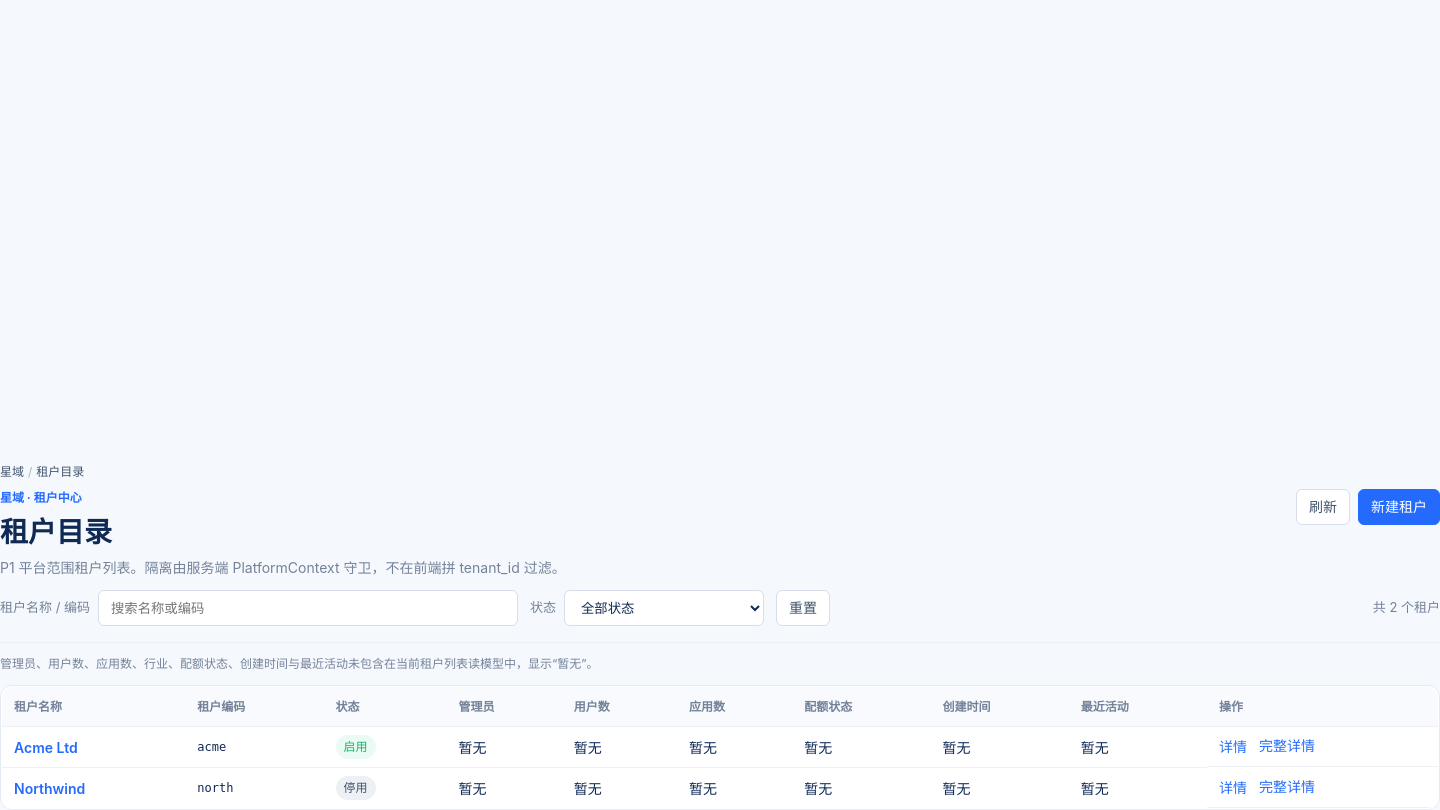
Test: P1 tenant directory V4 › uses NxEmpty for both an empty API response and a filter with no matches
(page scrolled)
Type "missing" into the search field with test id "tenant-search" at (308, 608), box x1=98 y1=590 x2=518 y2=626
(page scrolled)
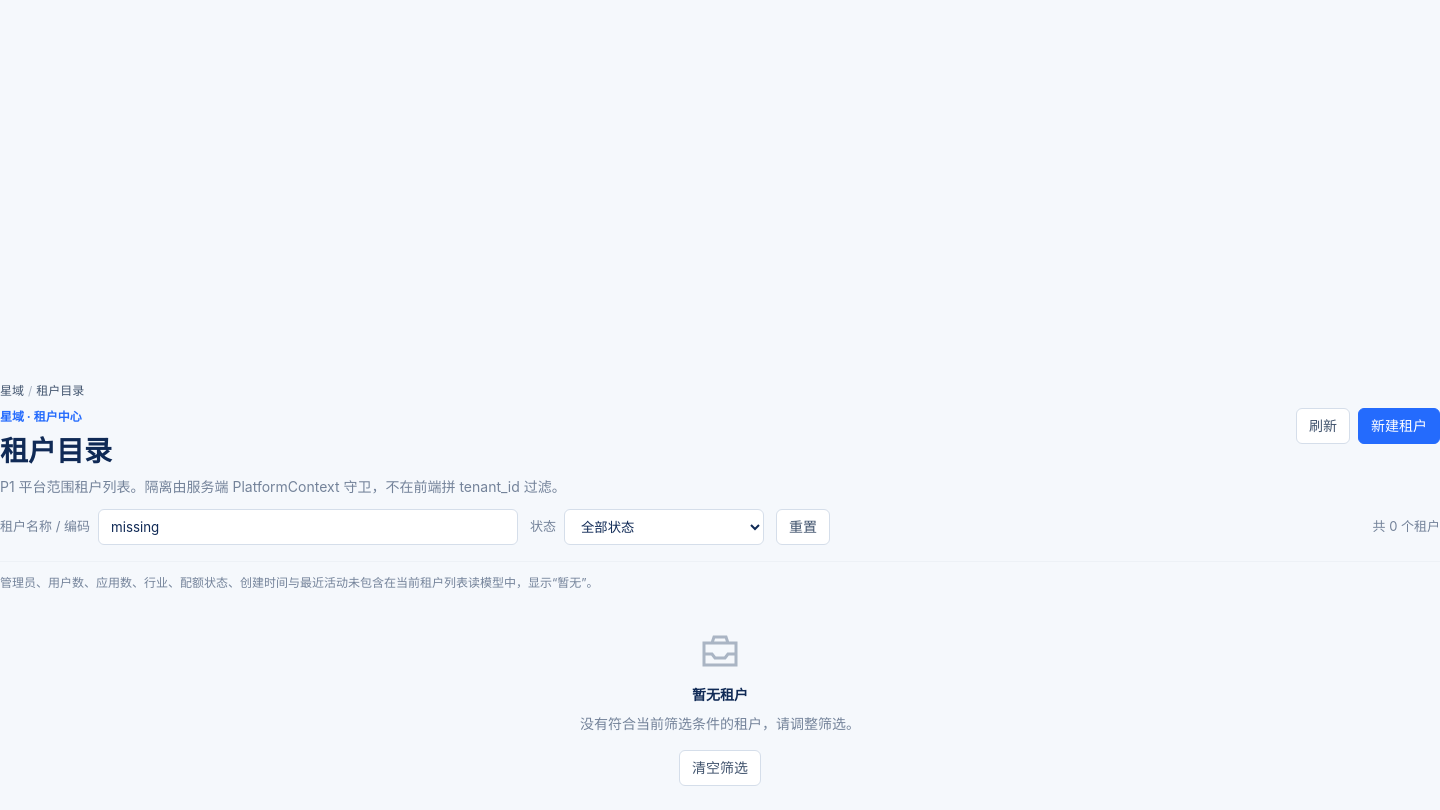
Result: the text "没有符合当前筛选条件的租户" is shown at x1=580 y1=715 x2=860 y2=732
Result: the button with test id "tenant-empty-reset" reads "清空筛选" at x1=679 y1=750 x2=761 y2=786
